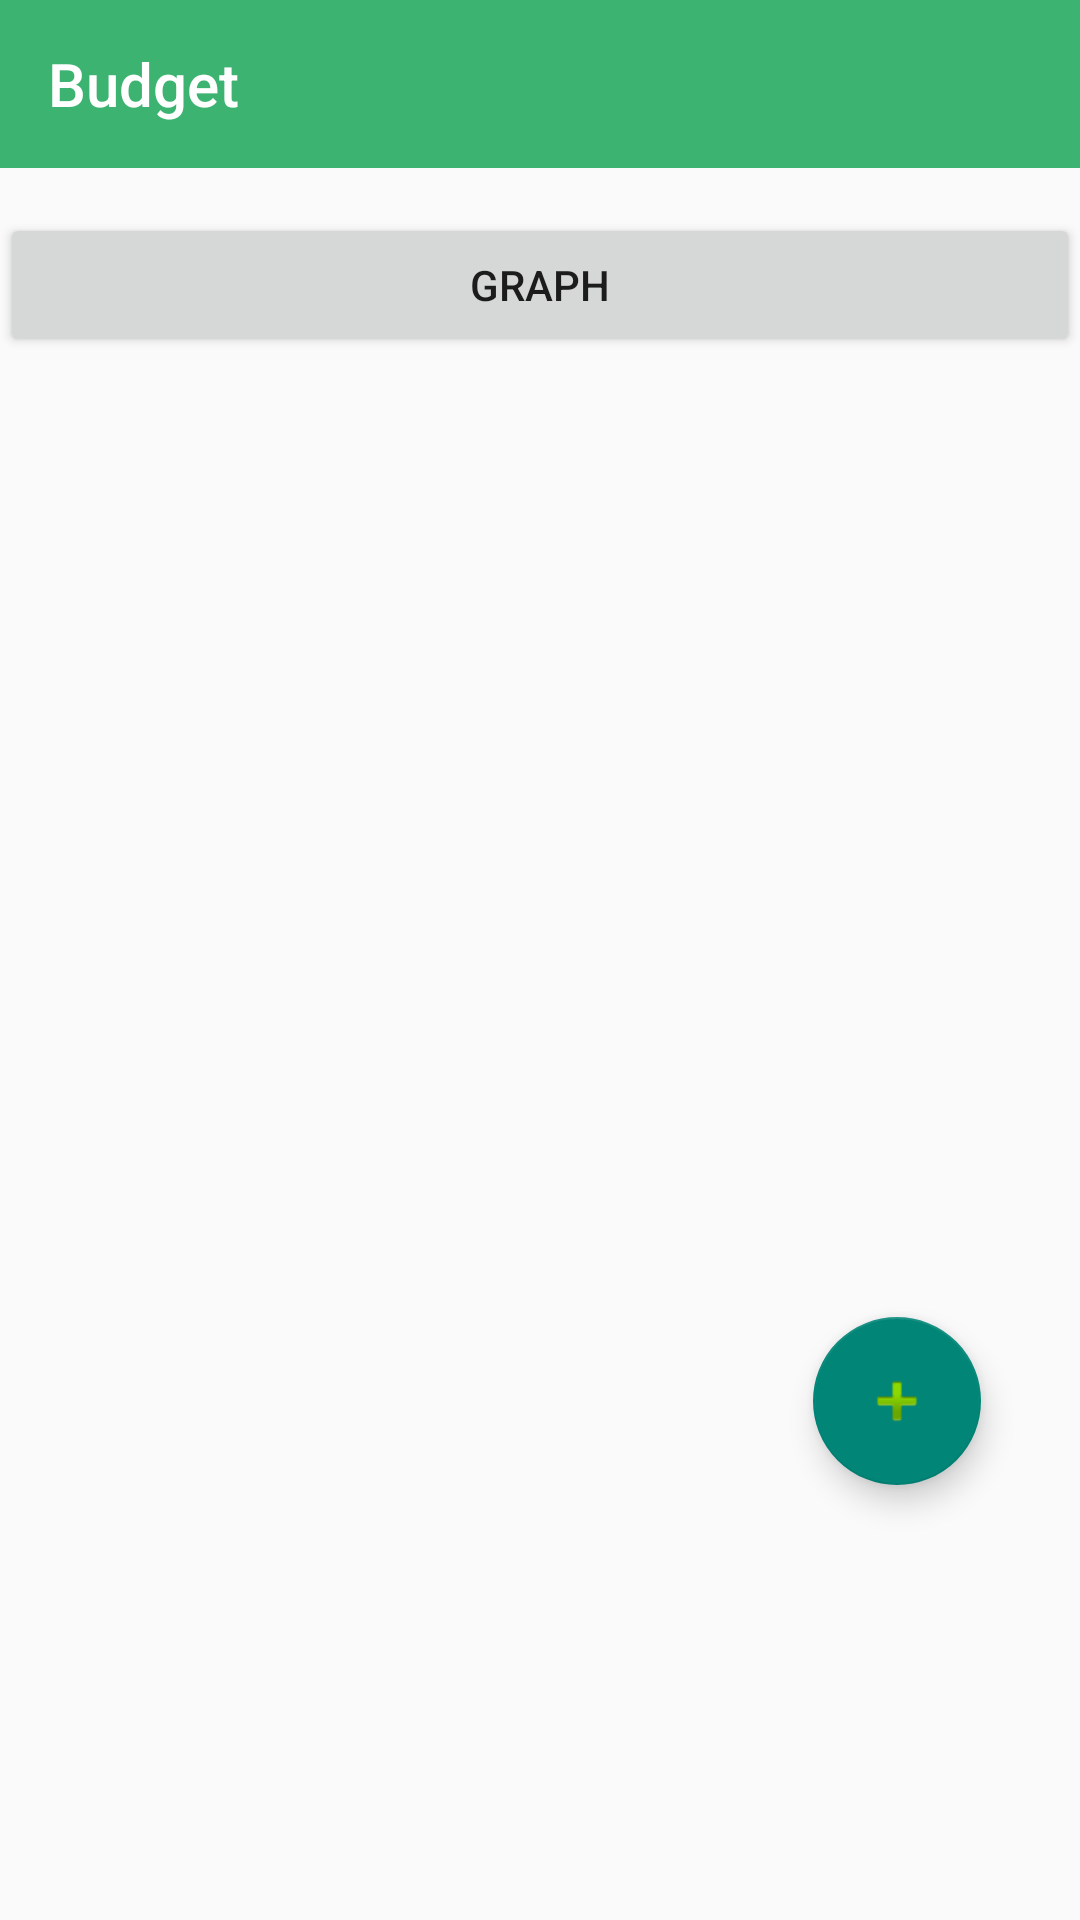

Screen size 1080*1920. Icon name, then its box in pixels as bbox=(x1, y1, x2, y2):
add: bbox=(813, 1317, 981, 1485)
